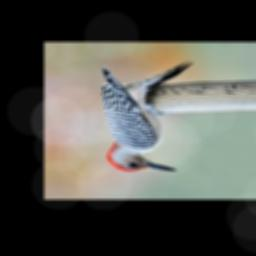Woodpecker: (88, 53, 212, 179)
